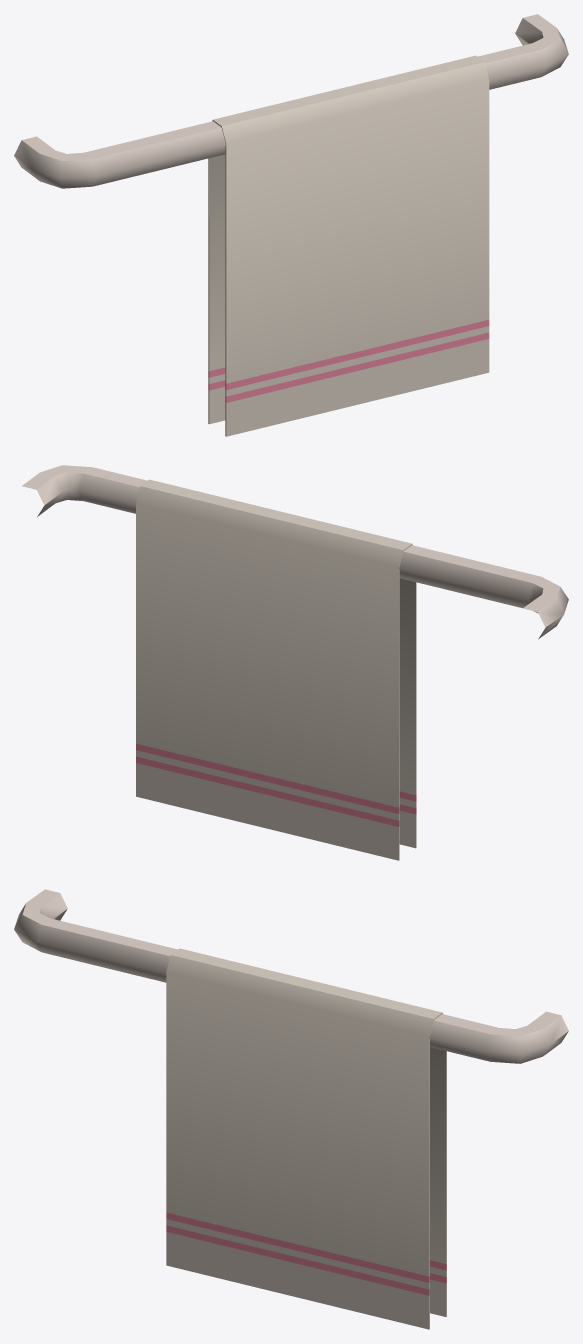
Rendered from towel-rack.glb.
The picture shows the model from 3 angles, top to bottom: view 1: azimuth 30°, elevation 25°; view 2: azimuth 150°, elevation 25°; view 3: azimuth 330°, elevation 25°; orthographic projection.
Parts seen in each view (by area): view 1: Bathroom_Towel; view 2: Bathroom_Towel; view 3: Bathroom_Towel.
Boxes of the visible parts, x1,y1,x2,y2 form: Bathroom_Towel: (14,14,568,436); Bathroom_Towel: (22,465,568,860); Bathroom_Towel: (14,889,568,1329).
Size of the model in its own units: 1.18 by 0.6538 by 0.1611.
